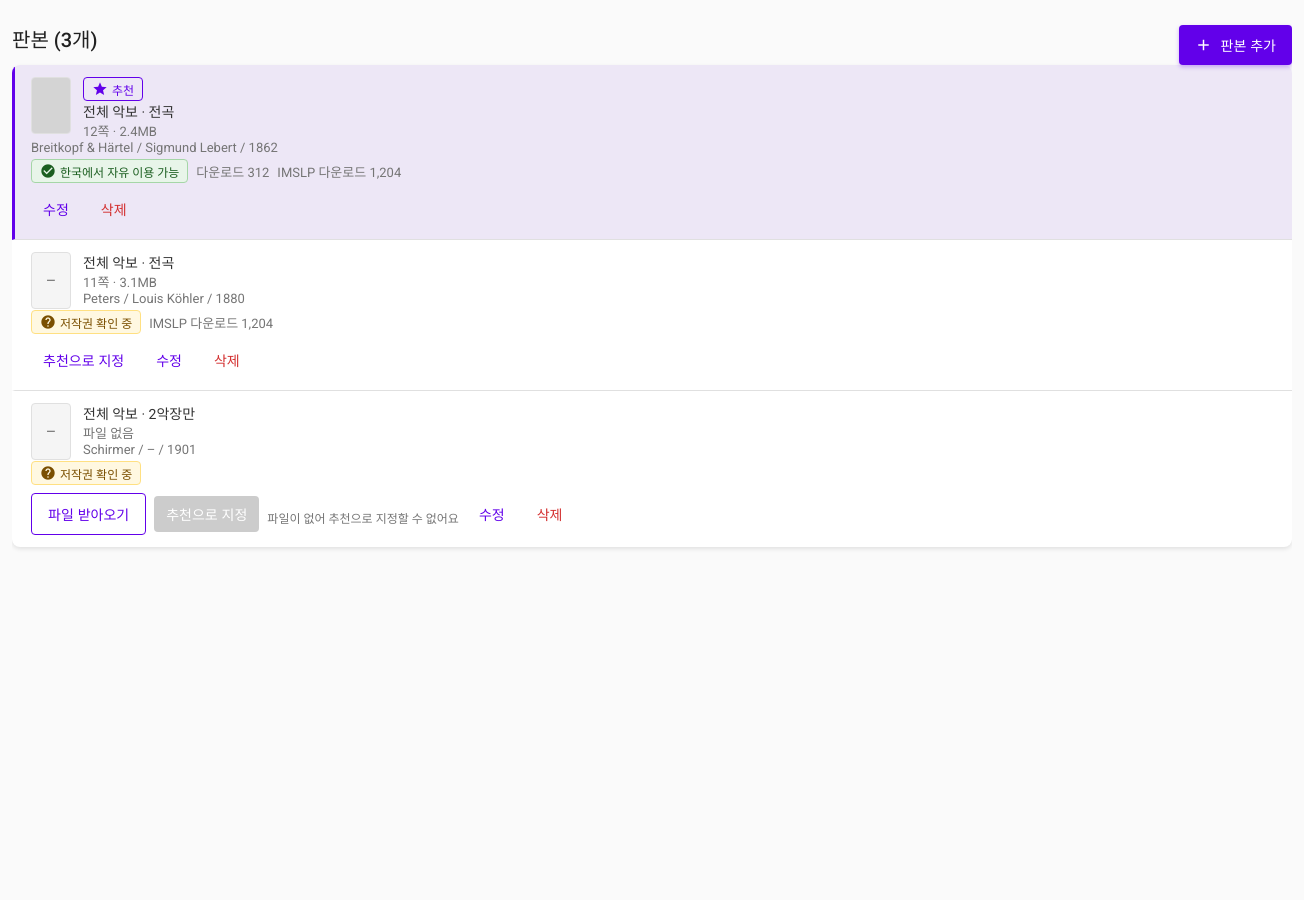
EditionListSection — 파일 받아오기 › 3초 폴링이 FAILED 를 받으면 '파일을 받다가 끊겼어요 — 다시 시도'
Click the button "파일 받아오기": (89, 514) [31,493,146,535]
Wait 3000 ms
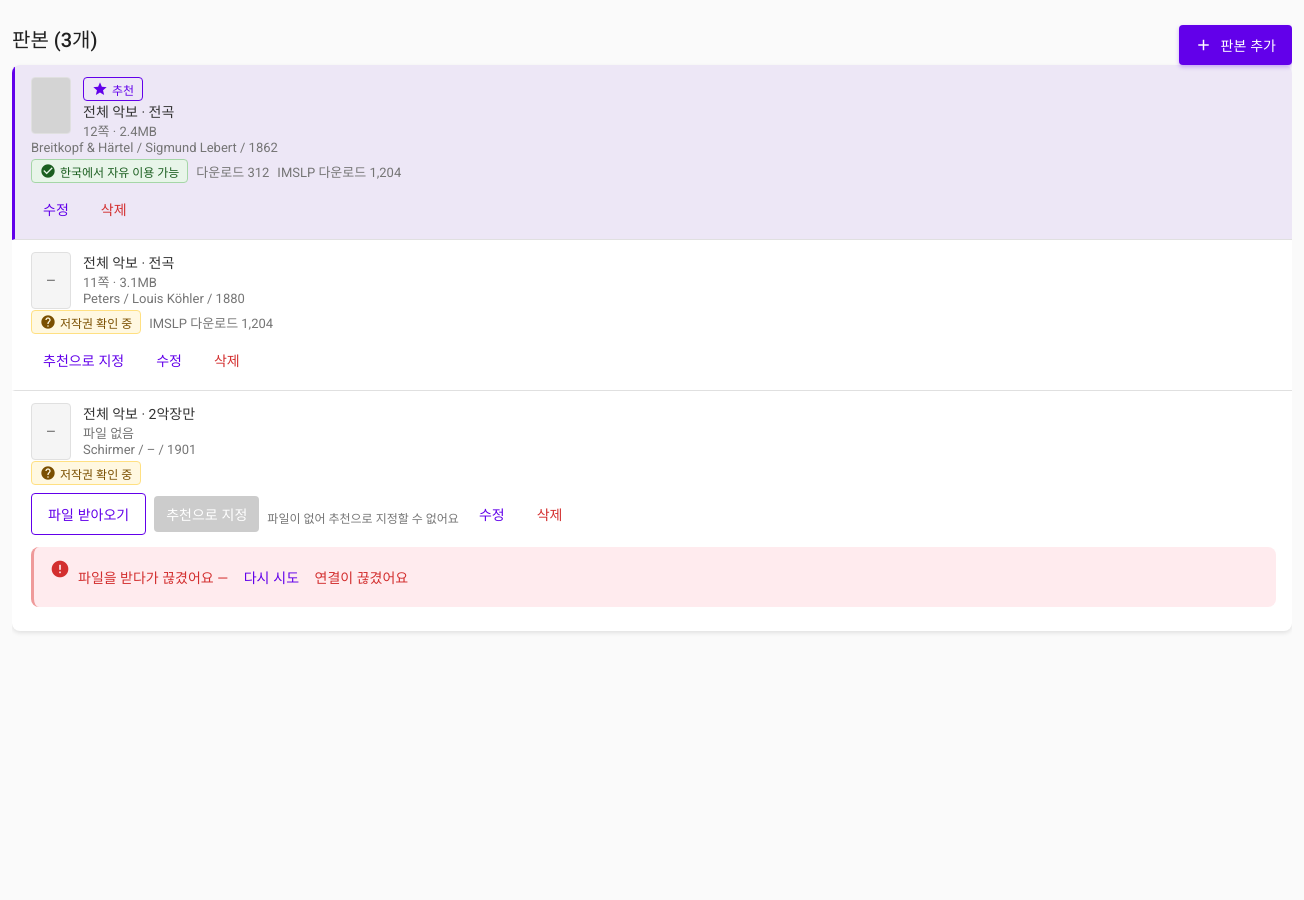
Now the text "파일을 받다가 끊겼어요 — 다시 시도" is shown, box [78,559,408,595]
